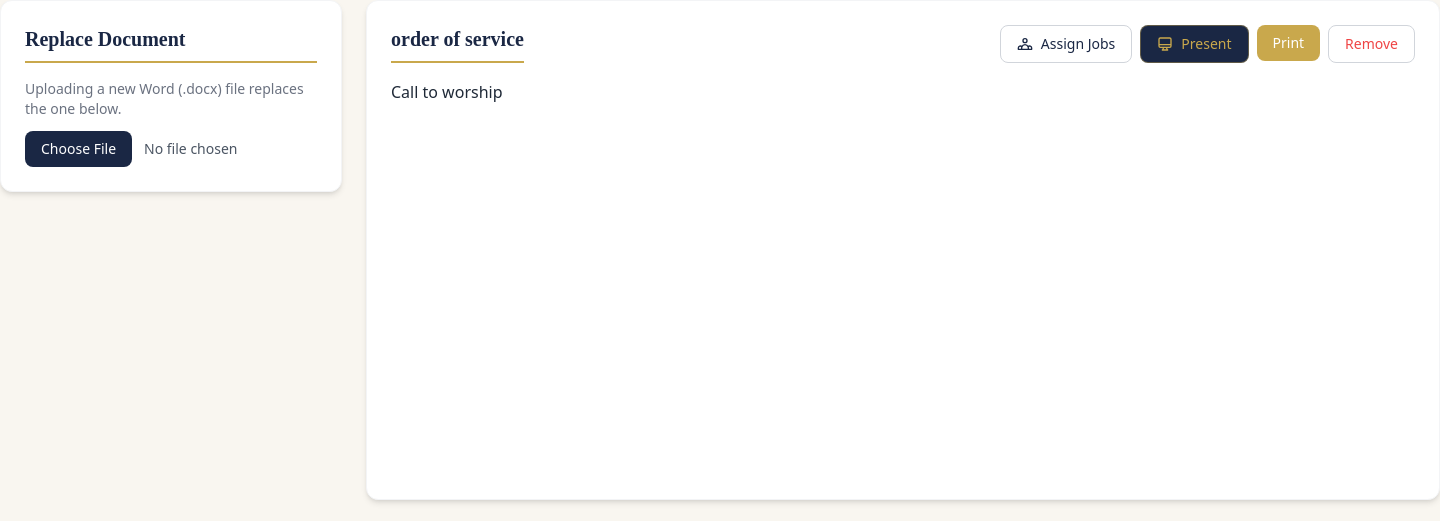
Test: OrderOfService — removing it › a failed removal is reported and the document stays visible
The image size is (1440, 521).
Expected: the text "Call to worship" is shown, [391,81,502,103]
Click the button "Remove" at (1372, 44), box [1328,25,1415,63]
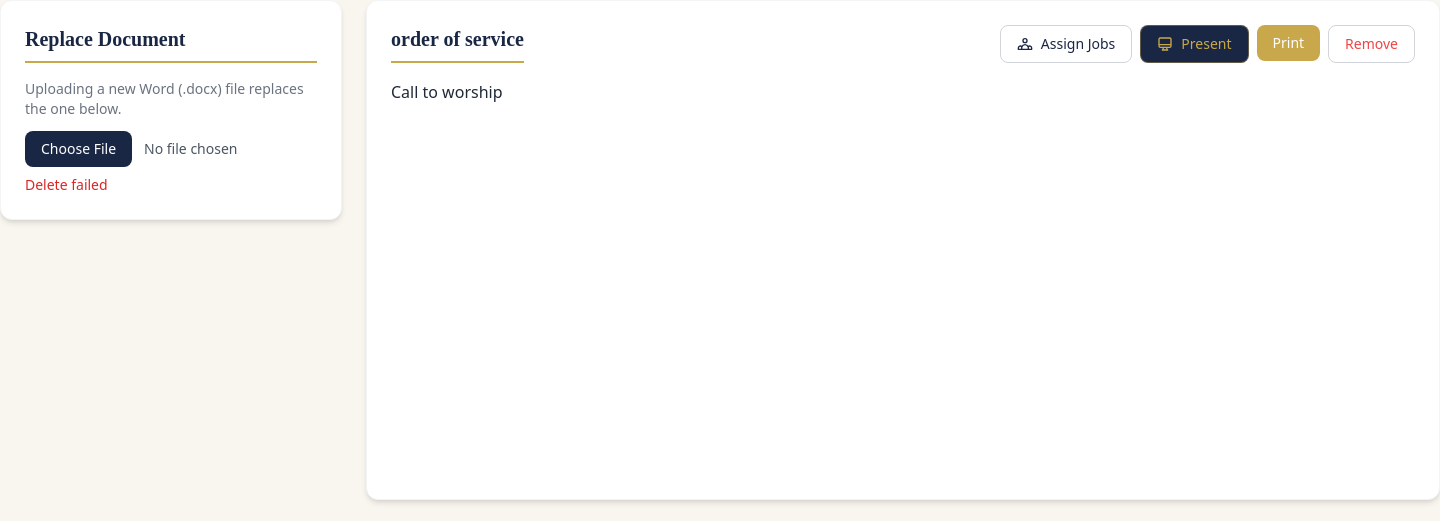
Expected: the text "Call to worship" is shown, [391,81,502,103]
Expected: the text "Delete failed" is shown, [25,175,108,194]
